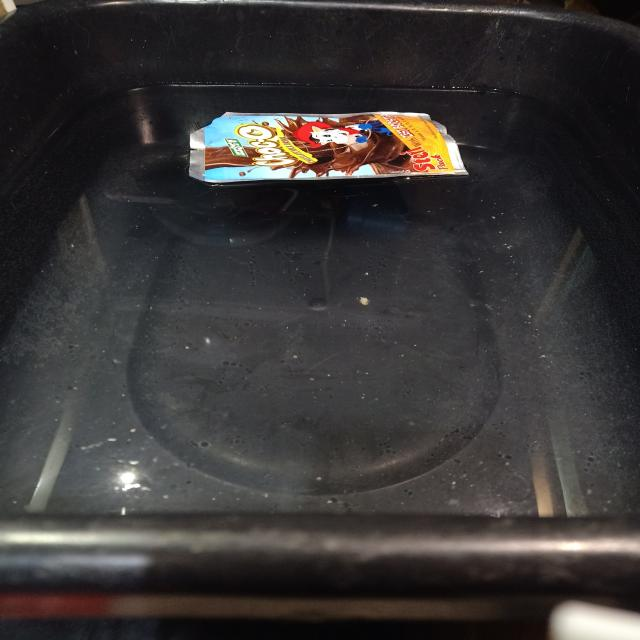Plastic Pouch: (189, 112, 467, 183)
